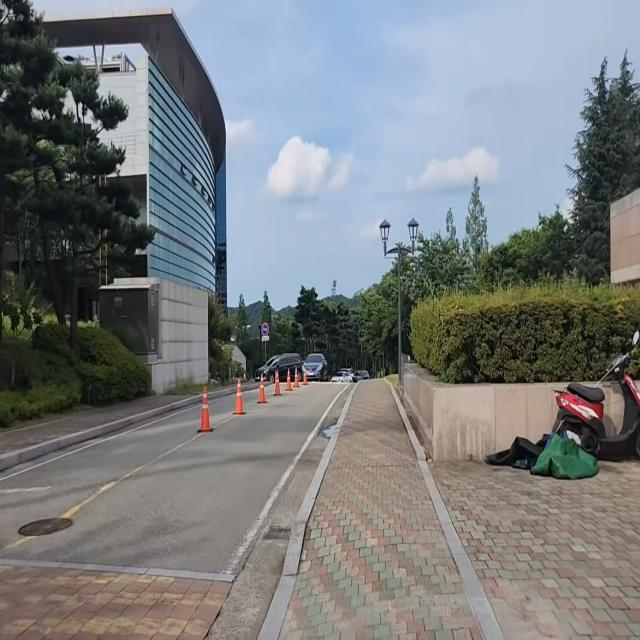obstacle: (501, 319, 640, 471), (198, 378, 218, 444)
road: (0, 379, 357, 640)
sidewalk: (270, 381, 640, 640), (0, 391, 189, 461)
